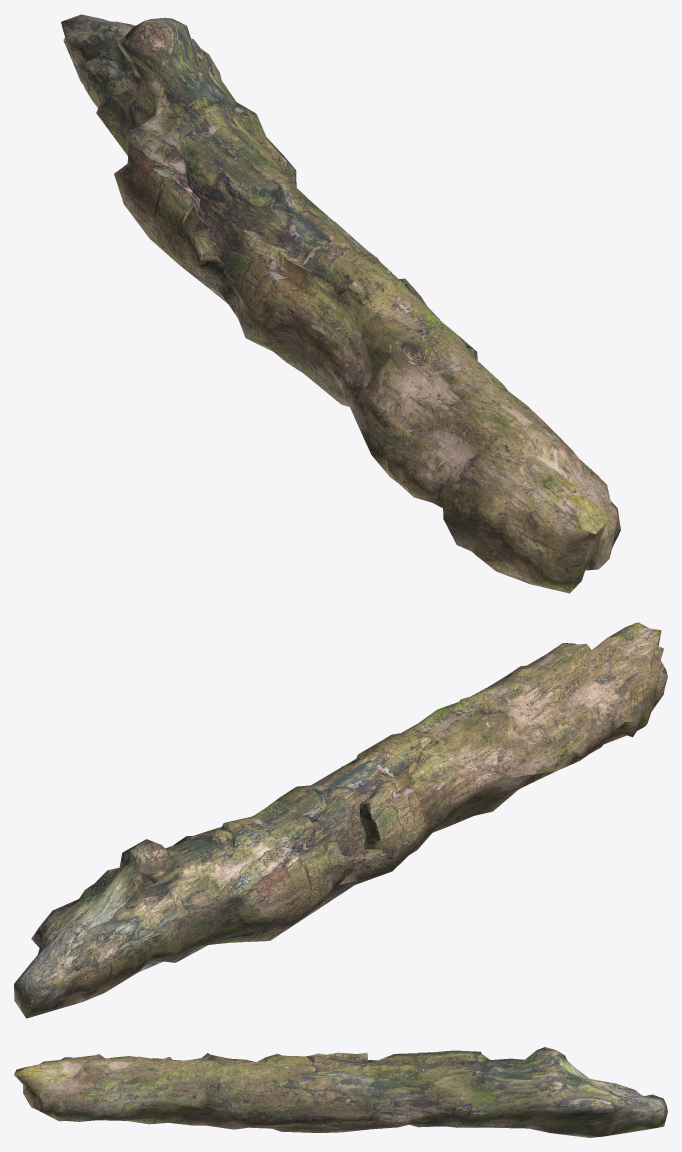
Rendered from SM_Debris_08_01.fbx.
3 renders of one model, top to bottom at view 1: azimuth 30°, elevation 25°; view 2: azimuth 150°, elevation 25°; view 3: azimuth 270°, elevation 25°, orthographic. The views are drawn at different scales.
Parts seen in each view (by area): view 1: sm_Debris_08_01_LOD0; view 2: sm_Debris_08_01_LOD0; view 3: sm_Debris_08_01_LOD0.
Part boxes in pixels (left/top/right/bottom): sm_Debris_08_01_LOD0: left=61, top=14, right=620, bottom=593; sm_Debris_08_01_LOD0: left=14, top=622, right=667, bottom=1018; sm_Debris_08_01_LOD0: left=14, top=1047, right=667, bottom=1137.
Bounding box in the file's own units: 153 × 32.78 × 23.88.
